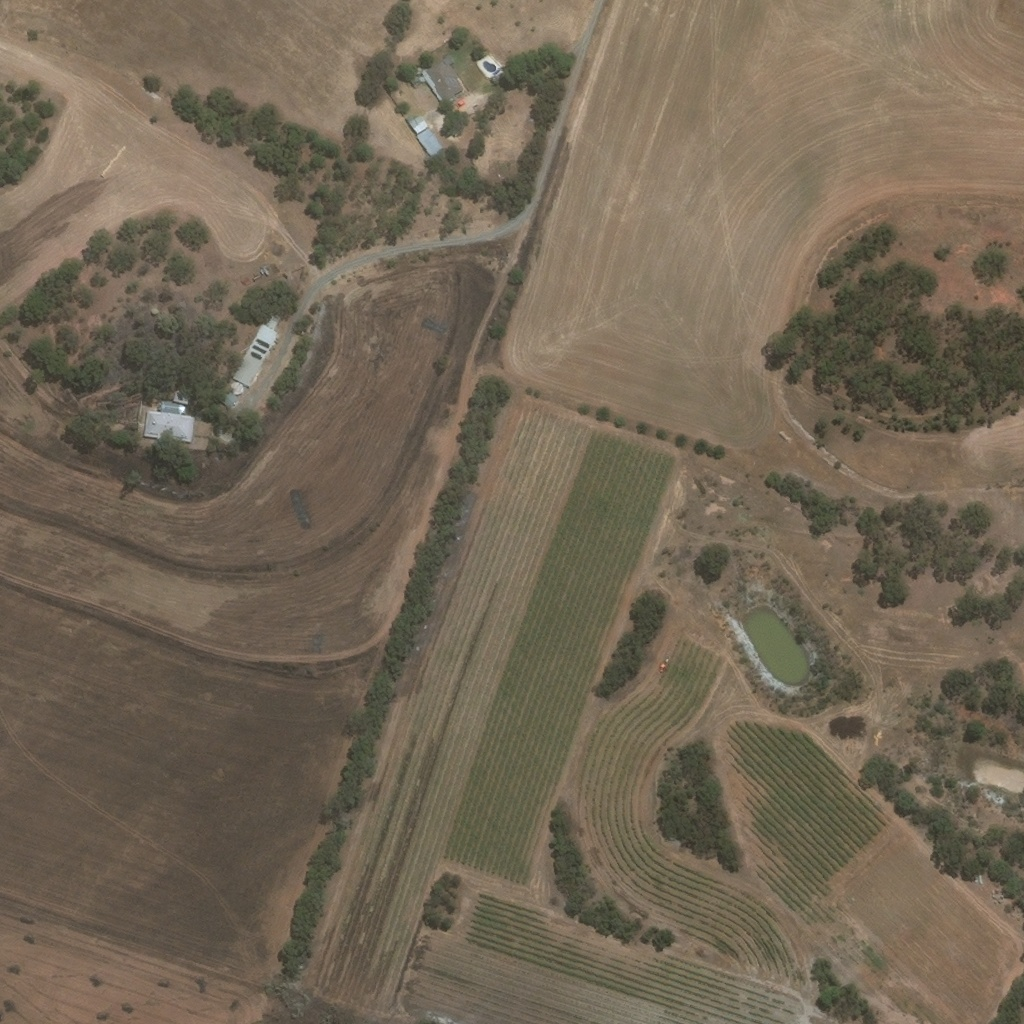0 no-damage: (405, 52, 466, 104), (234, 319, 281, 383), (144, 396, 197, 437), (415, 125, 445, 156), (405, 109, 430, 134), (223, 385, 242, 405), (175, 384, 196, 400), (234, 377, 246, 390)
